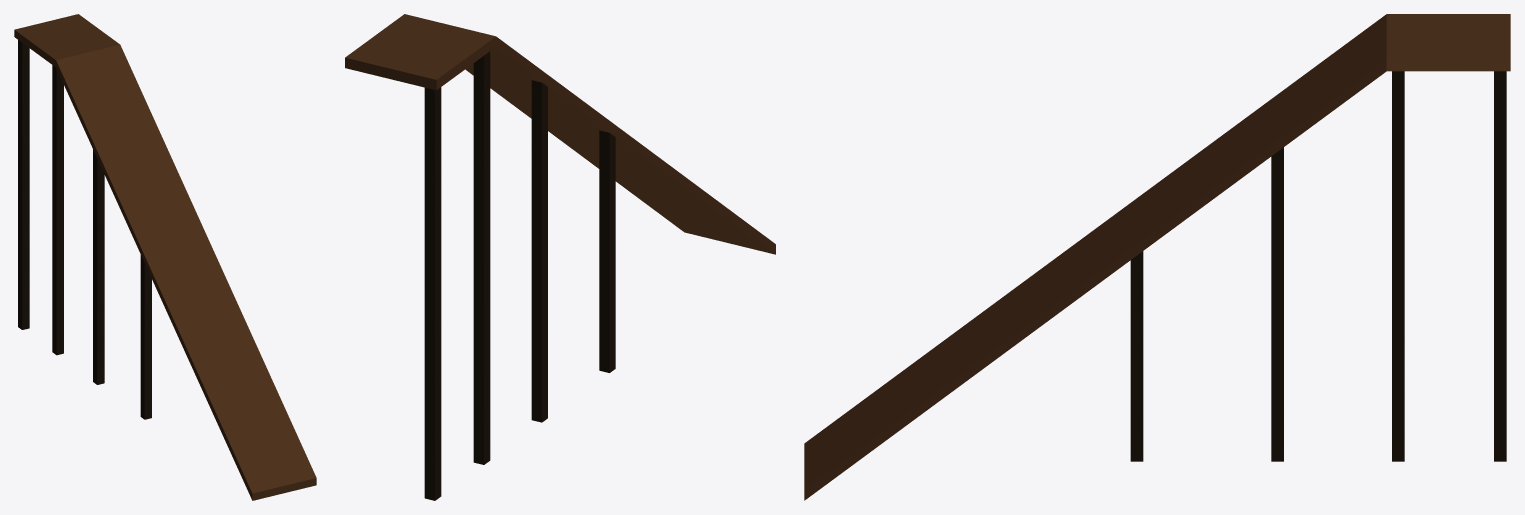
File: ramp.glb
3 renders of one model, left to right at view 1: azimuth 30°, elevation 25°; view 2: azimuth 150°, elevation 25°; view 3: azimuth 270°, elevation 25°, orthographic. The views are drawn at different scales.
Visible parts, largest first — view 1: Ramp; view 2: Ramp; view 3: Ramp.
Boxes of the visible parts, x1,y1,x2,y2 form: Ramp: (14,14,316,500); Ramp: (345,14,775,500); Ramp: (804,14,1510,500).
Size of the model in its own units: 1.06 by 4.7 by 6.84.
Materials: 1 (1 with a texture image).
